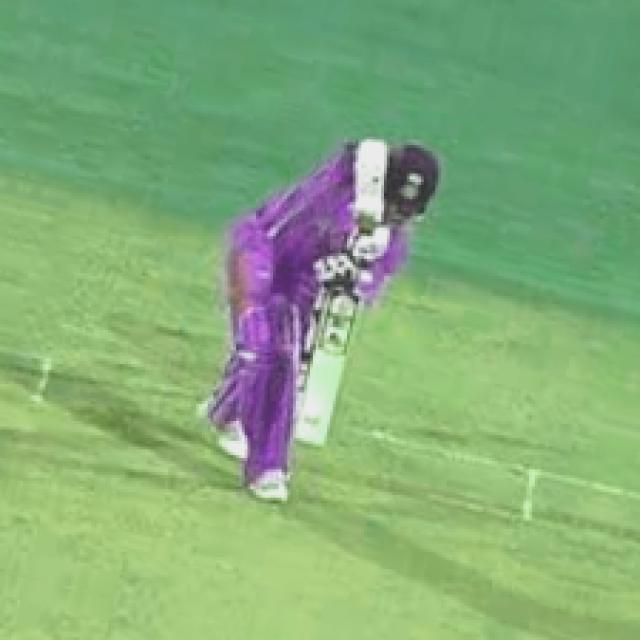bat: (283, 288, 370, 457)
toe: (285, 428, 330, 456)
